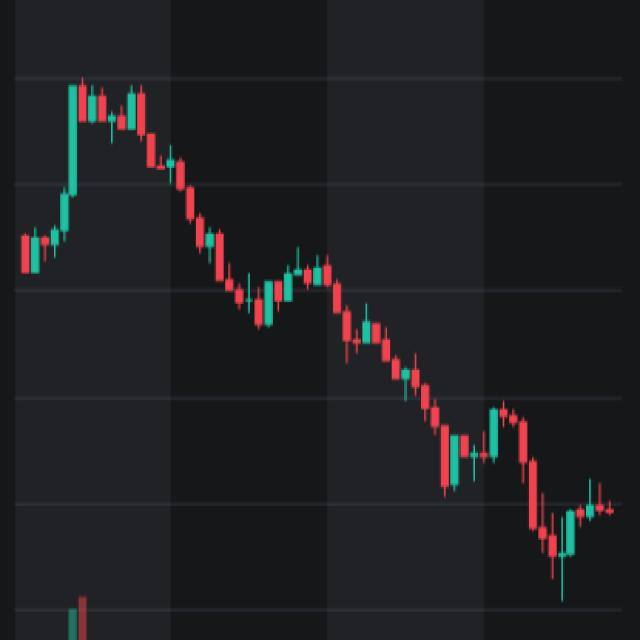Support-breakout: (250, 249, 456, 506)
